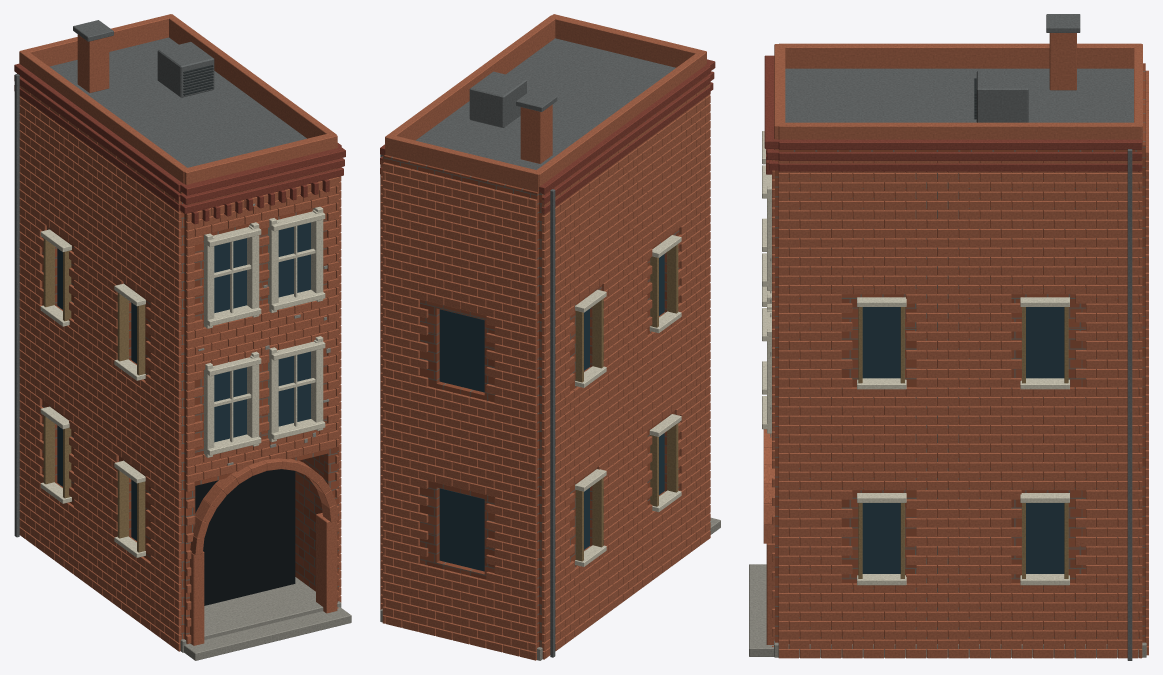
File: VICT27_lod0.glb
3 renders of one model, left to right at view 1: azimuth 30°, elevation 25°; view 2: azimuth 150°, elevation 25°; view 3: azimuth 270°, elevation 25°, orthographic. The views are drawn at different scales.
Visible parts, largest first — view 1: VICT27_LOD0; view 2: VICT27_LOD0; view 3: VICT27_LOD0.
Boxes of the visible parts, x1,y1,x2,y2 form: VICT27_LOD0: (14, 14, 351, 660); VICT27_LOD0: (380, 14, 720, 660); VICT27_LOD0: (749, 14, 1148, 660).
Size of the model in its own units: 3.71 by 10.45 by 6.6.
12 materials, 10 textured.
